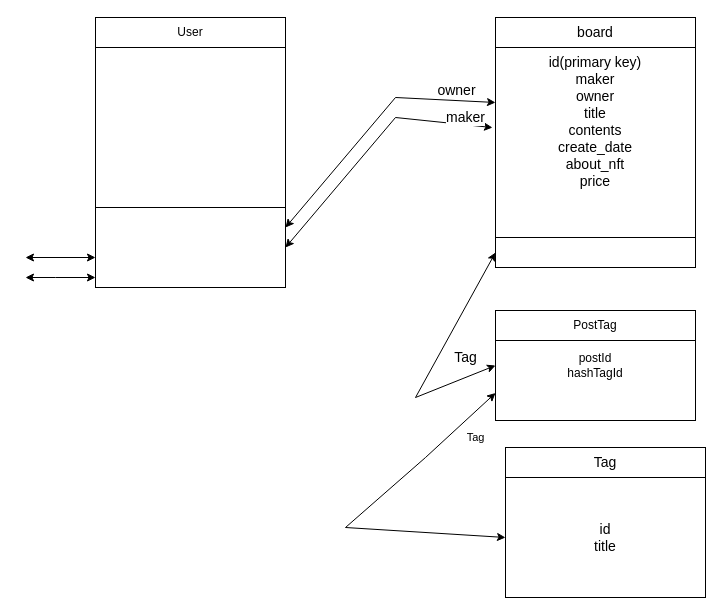
The diagram is 723 pixels wide and 615 high, and some of its shapes have lost their labels. The centre of each missing label's shape, as x and y in pixels:
"I_own_nft I_maked_nft subscribe subscribed" goes at point (190, 247).
"id(primary key) uid password create_date profile_picture about_me" goes at point (190, 127).
"Tags" goes at point (595, 252).
